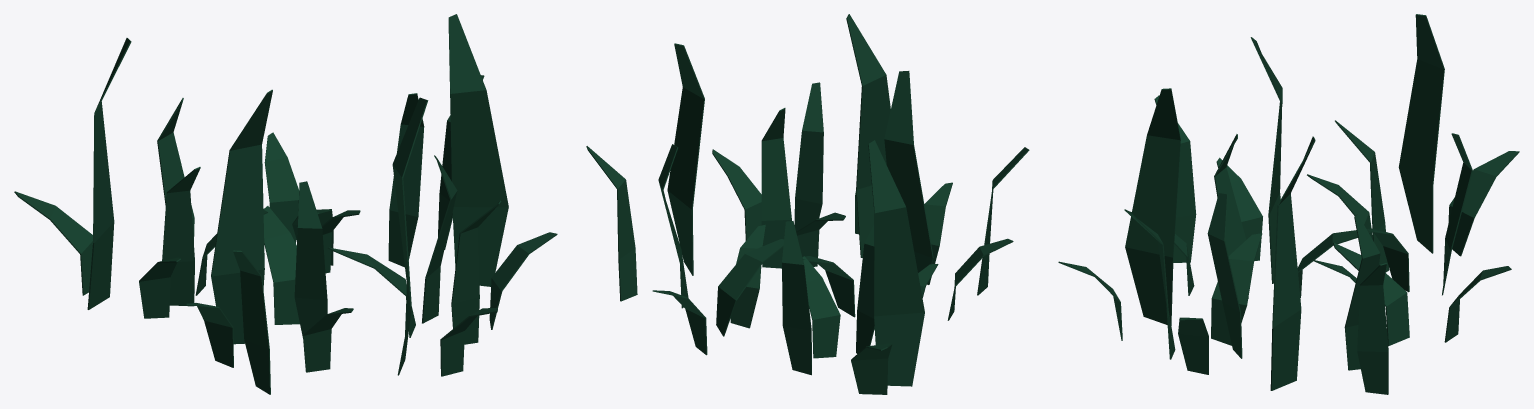
File: Grass_01.fbx
The picture shows the model from 3 angles, left to right: view 1: azimuth 30°, elevation 25°; view 2: azimuth 150°, elevation 25°; view 3: azimuth 270°, elevation 25°; orthographic projection. The views are drawn at different scales.
Visible parts, largest first — view 1: Plane.007; view 2: Plane.007; view 3: Plane.007.
Part boxes in pixels (x1,y1,x2,y2): Plane.007: [14, 14, 557, 394]; Plane.007: [586, 14, 1029, 394]; Plane.007: [1058, 14, 1519, 394].
Bounding box in the file's own units: 0.6226 × 0.6603 × 0.3887.
